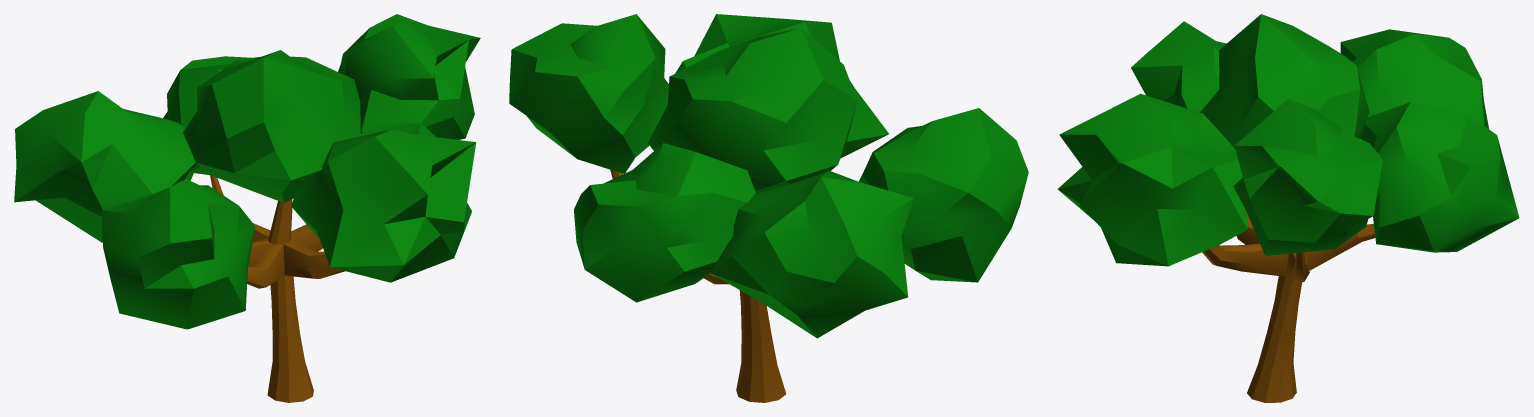
File: tree3.fbx
3 views of the same model, side by side, from view 1: azimuth 30°, elevation 25°; view 2: azimuth 150°, elevation 25°; view 3: azimuth 270°, elevation 25° (orthographic). The views are drawn at different scales.
Visible parts, largest first — view 1: Cylinder; view 2: Cylinder; view 3: Cylinder.
Boxes of the visible parts, x1,y1,x2,y2 form: Cylinder: (14, 14, 480, 402); Cylinder: (509, 14, 1028, 402); Cylinder: (1057, 14, 1519, 402).
Size of the model in its own units: 2325 by 1833 by 2118.
1 material, 1 textured.
